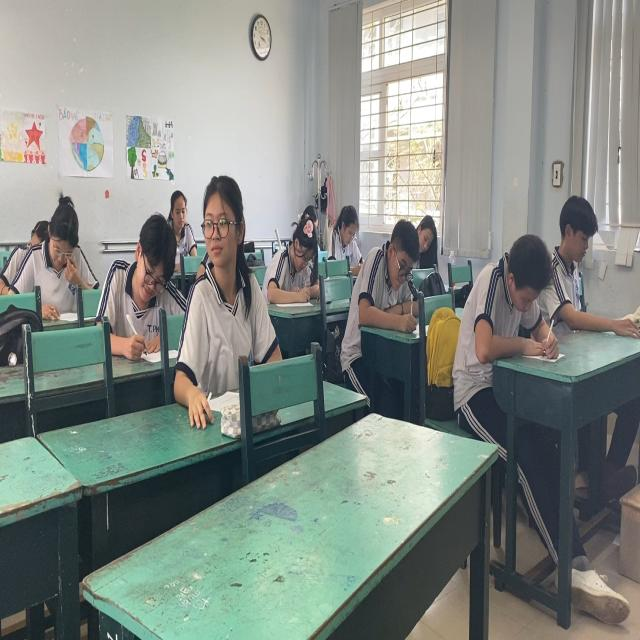cheating: (196, 171, 273, 347)
not_cheating: (464, 226, 553, 368), (548, 188, 618, 344), (106, 216, 188, 340), (32, 195, 94, 305), (362, 222, 422, 323), (268, 202, 320, 298), (168, 178, 200, 261), (409, 206, 443, 274), (332, 205, 363, 261)
